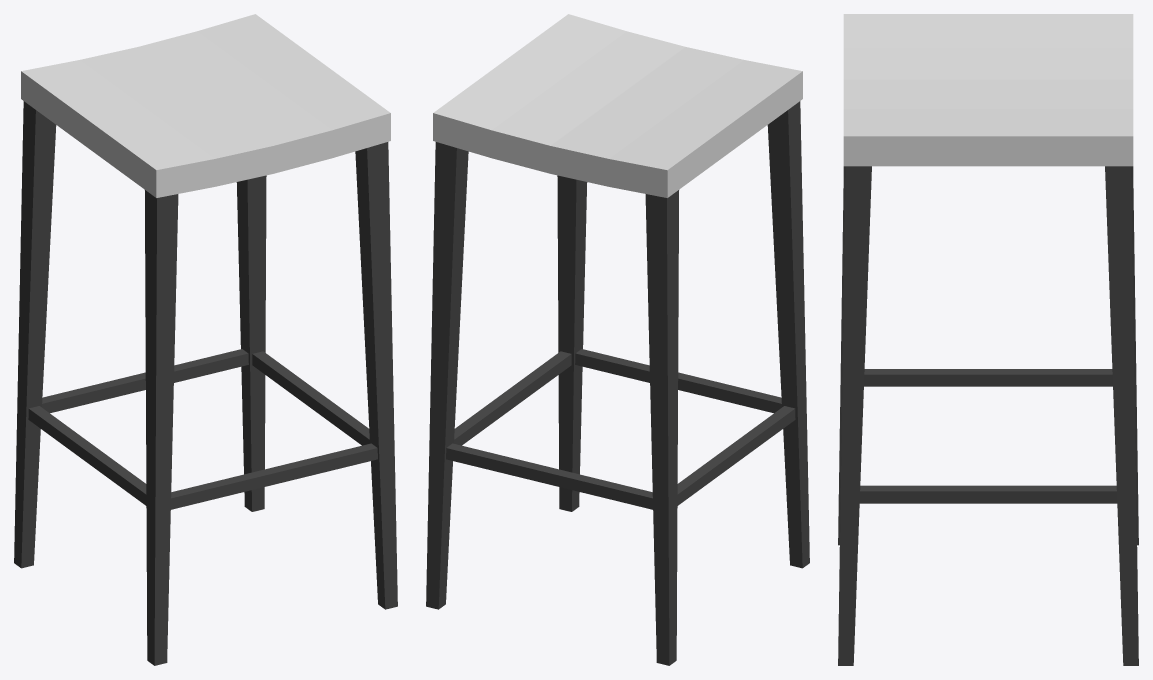
Rendered from Chair_01_C2.fbx.
The picture shows the model from 3 angles, left to right: view 1: azimuth 30°, elevation 25°; view 2: azimuth 150°, elevation 25°; view 3: azimuth 270°, elevation 25°; orthographic projection. The views are drawn at different scales.
Visible parts, largest first — view 1: Chair_01_C2; view 2: Chair_01_C2; view 3: Chair_01_C2.
Boxes of the visible parts, x1,y1,x2,y2 form: Chair_01_C2: [14, 14, 397, 665]; Chair_01_C2: [426, 14, 809, 665]; Chair_01_C2: [838, 14, 1138, 665].
Bounding box in the file's own units: 33.75 × 65.29 × 33.75.
